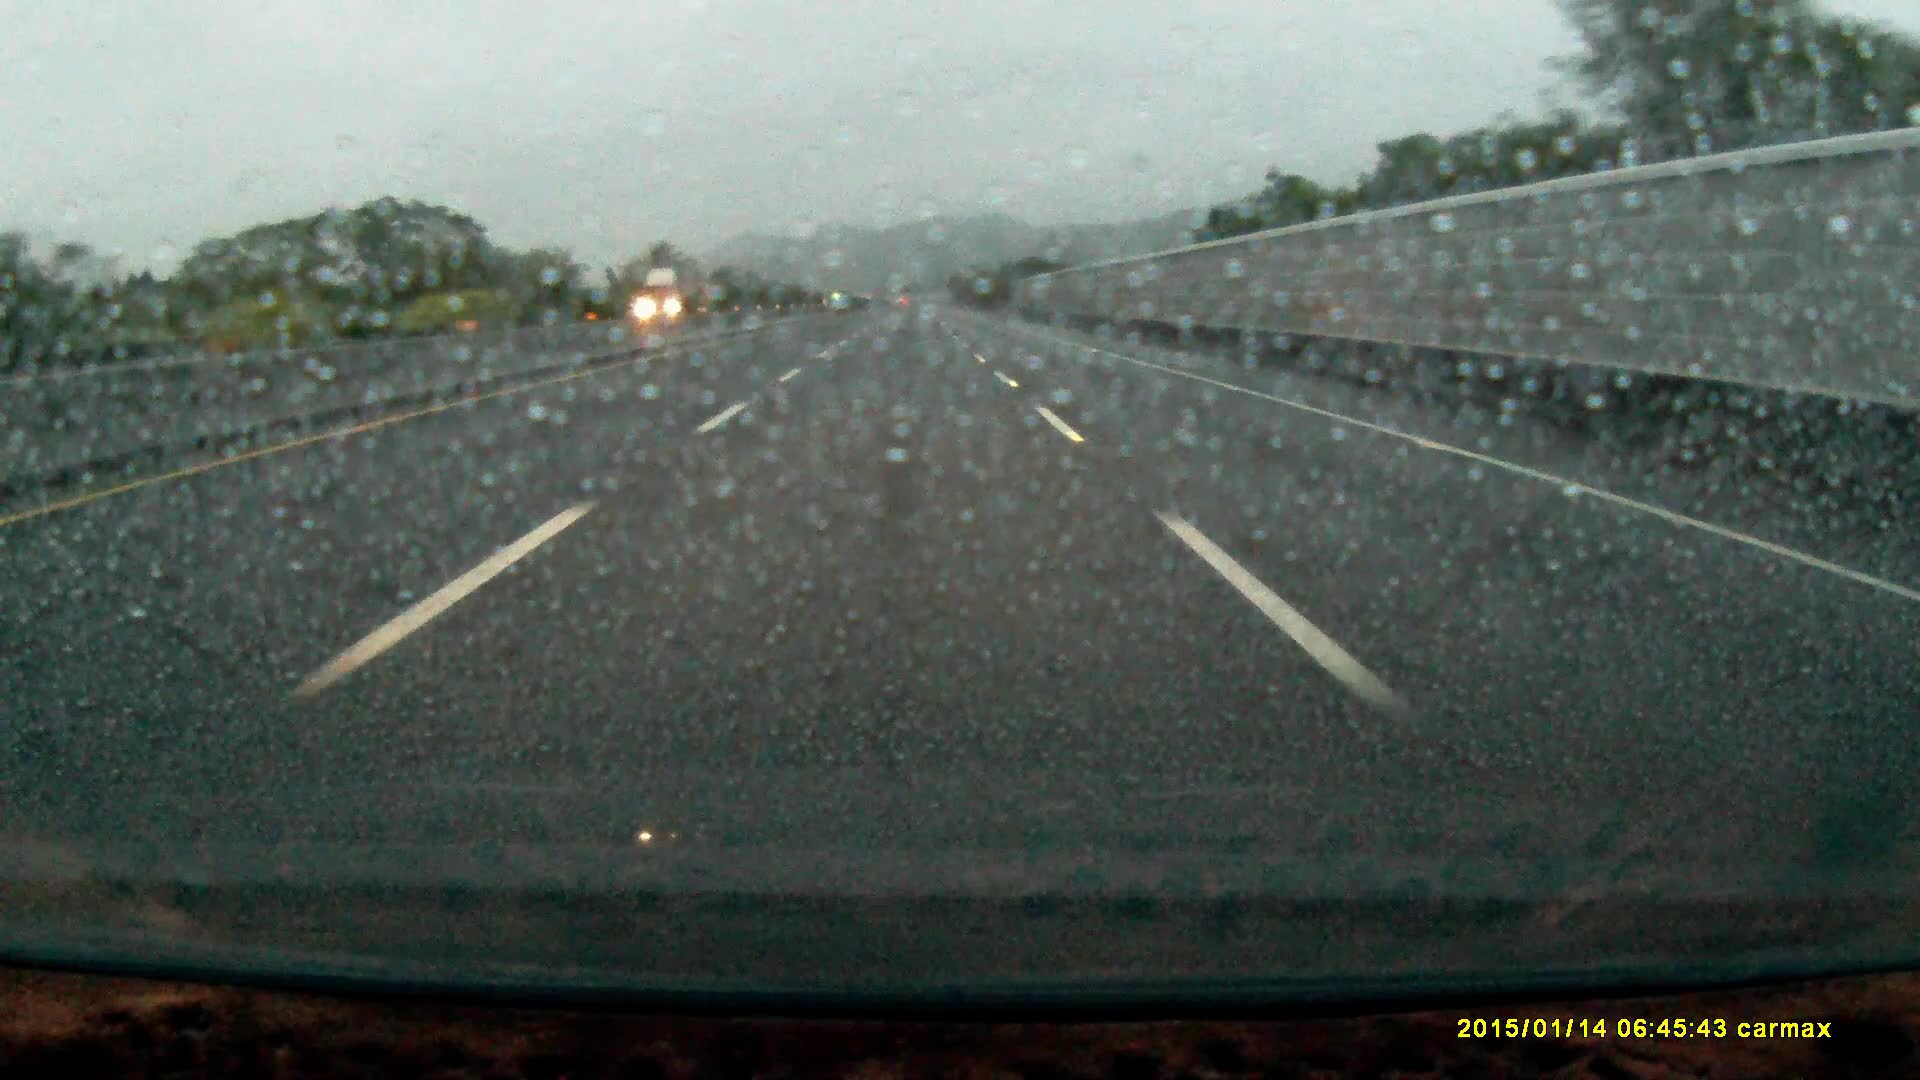vehicle: (636, 266, 707, 318)
